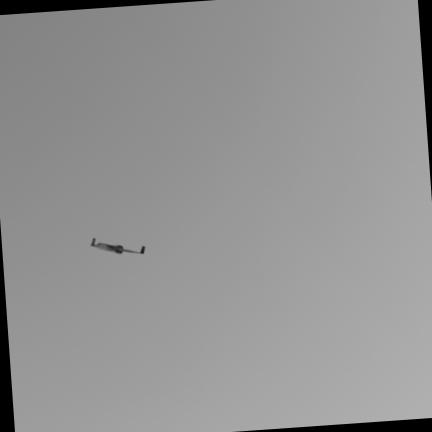Shahed: (90, 238, 144, 253)
